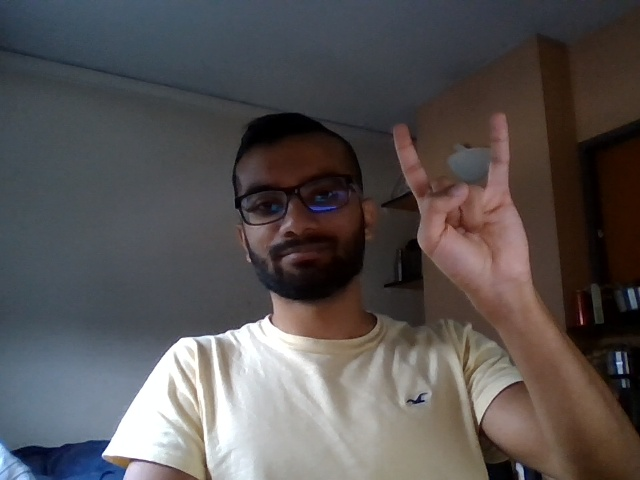I Love You: (376, 109, 548, 300)
